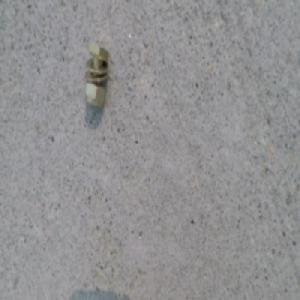BoltNutSet: (78, 36, 105, 103)
